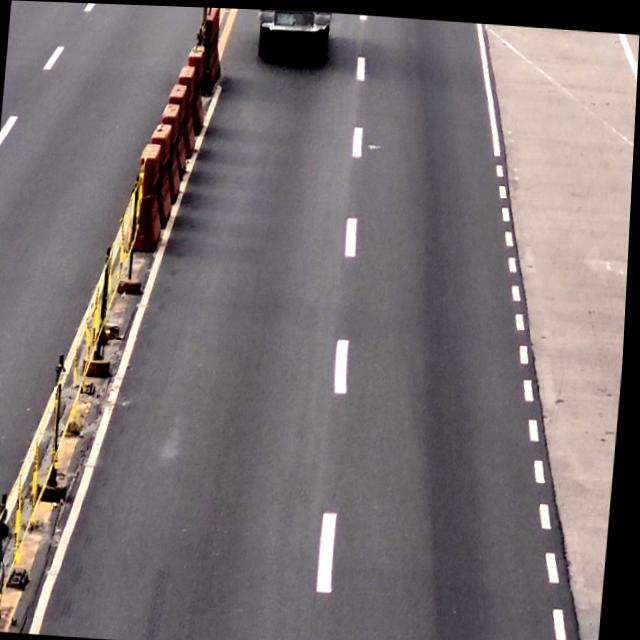Truck: (257, 8, 333, 59)
